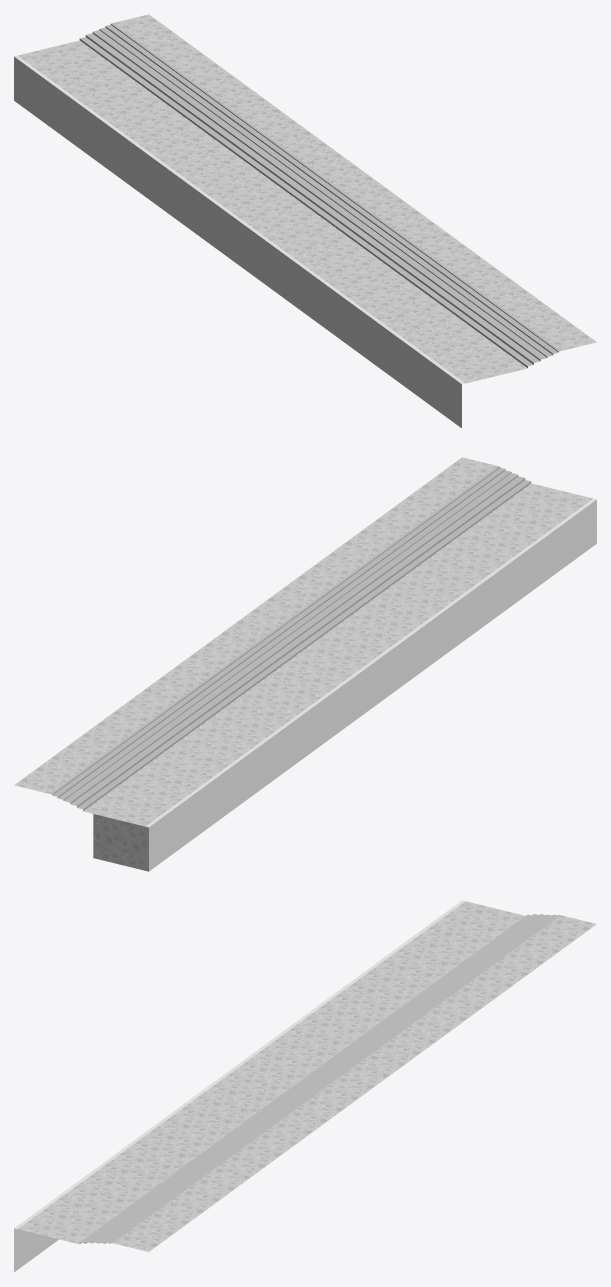
Rendered from StairGround_D_01.fbx.
3 renders of one model, top to bottom at view 1: azimuth 30°, elevation 25°; view 2: azimuth 150°, elevation 25°; view 3: azimuth 330°, elevation 25°, orthographic.
Parts seen in each view (by area): view 1: StairGround_D_01; view 2: StairGround_D_01; view 3: StairGround_D_01.
Part boxes in pixels (x1,y1,x2,y2): StairGround_D_01: [14, 14, 596, 428]; StairGround_D_01: [14, 457, 596, 871]; StairGround_D_01: [14, 900, 596, 1272].
Bounding box in the file's own units: 3225 × 1221 × 18556.
